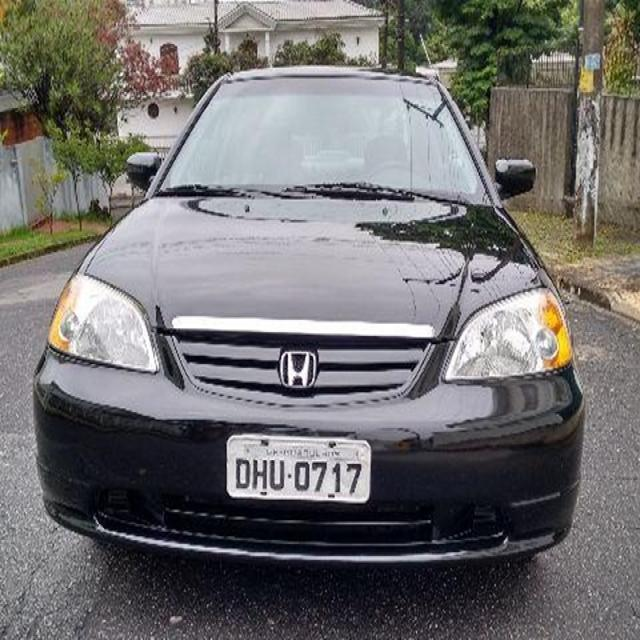Placa: (223, 431, 375, 509)
